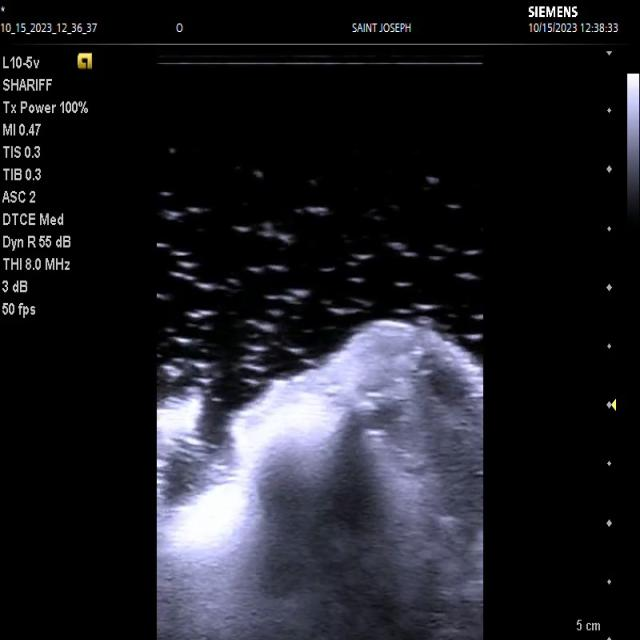tissue: (152, 324, 482, 640)
